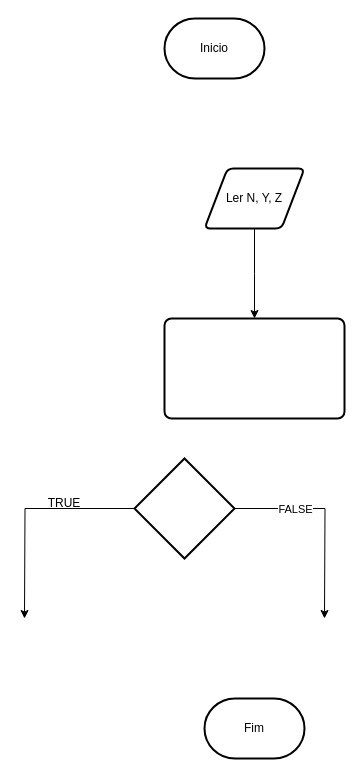
Some shapes in this 363 by 776 pixel diagram are drawn without their labels. The box of each missing label's shape, as (x1, y1, x2, y2) in pixels:
Y/N: (163, 317, 345, 419)
Y>N AND N<Z: (133, 457, 235, 559)
